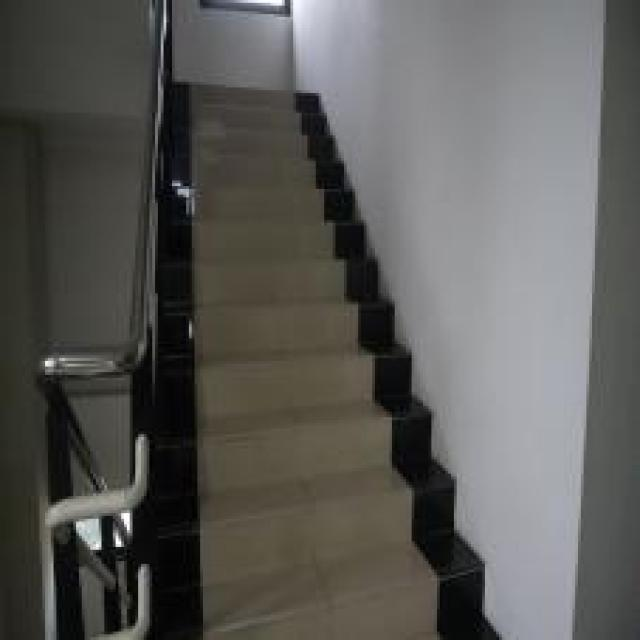upstair: (170, 173, 345, 573)
